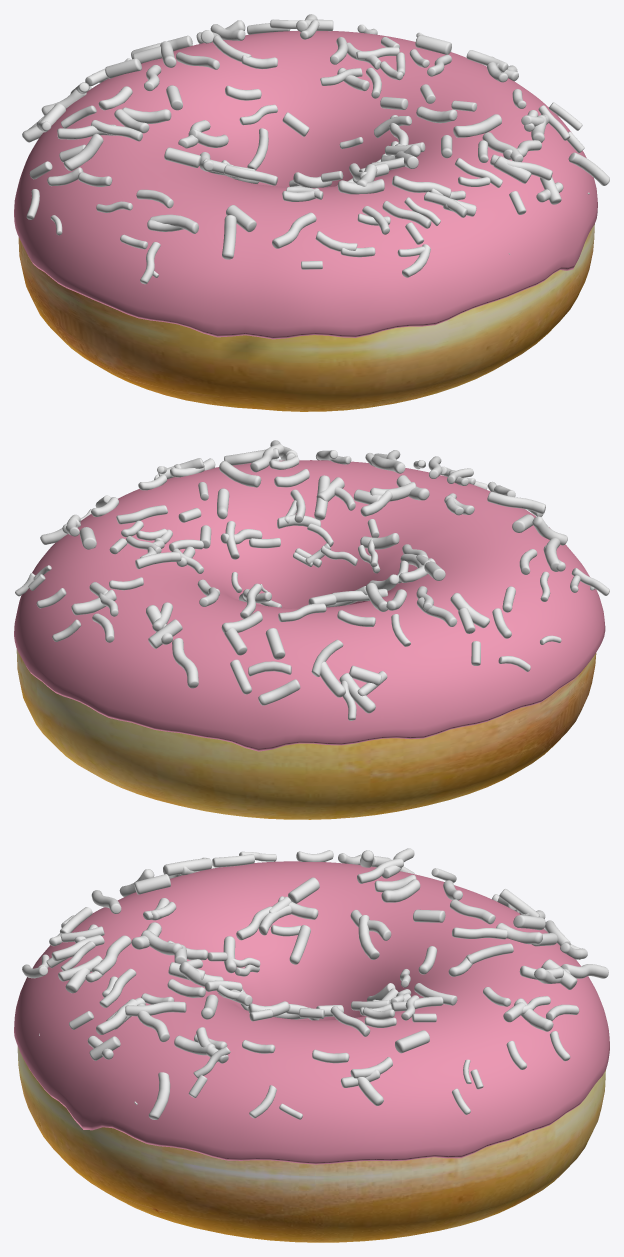
Rendered from strawberry white vermicheli.glb.
3 views of the same model, one above another, from view 1: azimuth 30°, elevation 25°; view 2: azimuth 150°, elevation 25°; view 3: azimuth 270°, elevation 25° (orthographic). The views are drawn at different scales.
Parts seen in each view (by area): view 1: chocolate.002, white Ver, Torus; view 2: chocolate.002, Torus, white Ver; view 3: chocolate.002, Torus, white Ver.
Boxes of the visible parts, x1,y1,x2,y2 form: chocolate.002: [14, 31, 597, 339]; white Ver: [22, 14, 609, 284]; Torus: [18, 224, 594, 411]; chocolate.002: [14, 460, 605, 751]; Torus: [16, 649, 596, 819]; white Ver: [15, 440, 609, 720]; chocolate.002: [14, 861, 609, 1164]; Torus: [17, 1046, 605, 1242]; white Ver: [22, 848, 608, 1119].
Size of the model in its own units: 0.1988 by 0.0785 by 0.1971.
3 materials, 1 textured.
